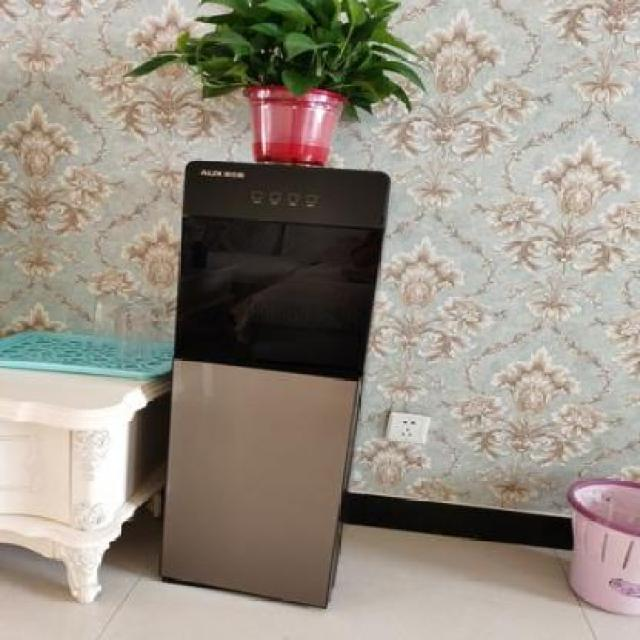cooler: (149, 158, 397, 614)
